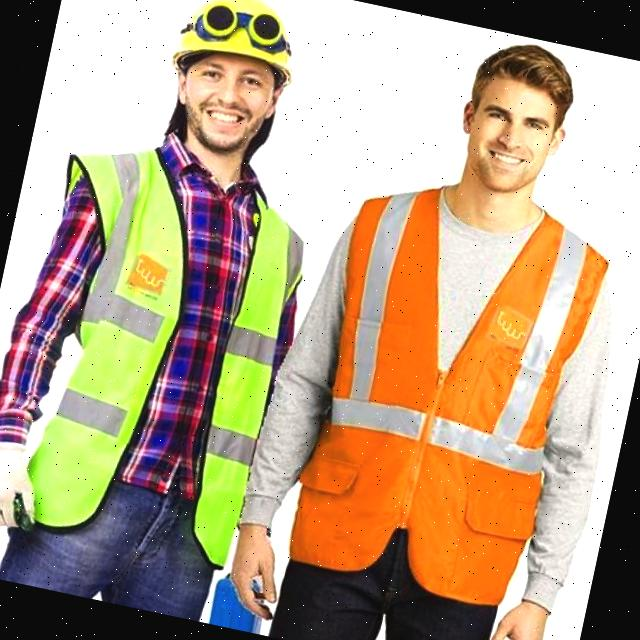vest: (286, 154, 626, 590), (14, 132, 319, 588)
